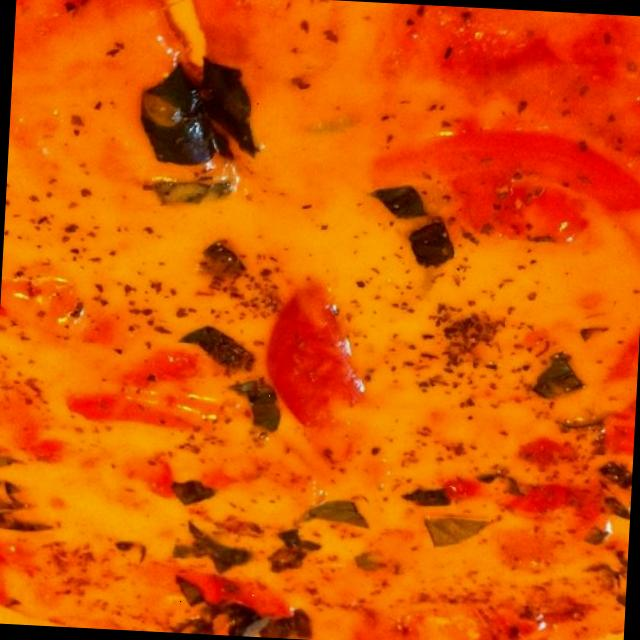basil: (133, 60, 281, 180), (170, 520, 258, 578), (175, 322, 262, 374), (222, 378, 286, 442), (265, 526, 328, 584), (146, 172, 238, 208), (529, 349, 584, 403), (296, 495, 376, 531), (417, 511, 487, 551), (423, 514, 491, 552), (163, 474, 229, 511), (366, 184, 428, 222), (410, 222, 457, 271), (202, 237, 248, 278), (407, 485, 456, 509)
tomato: (434, 116, 640, 247), (259, 292, 366, 438), (178, 567, 300, 627)
